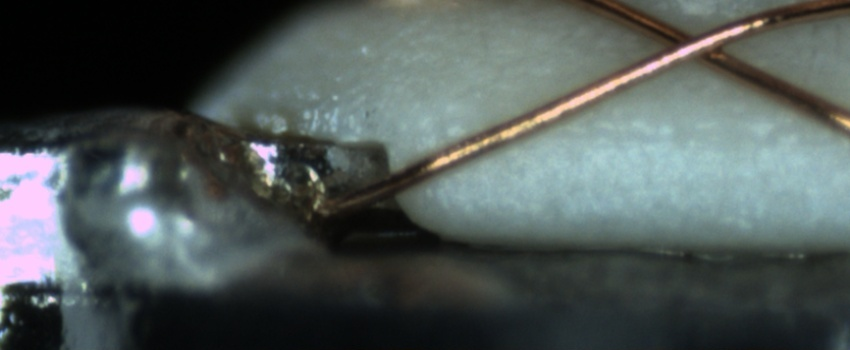CL: (637, 14, 746, 73)
DL: (527, 103, 849, 167)
